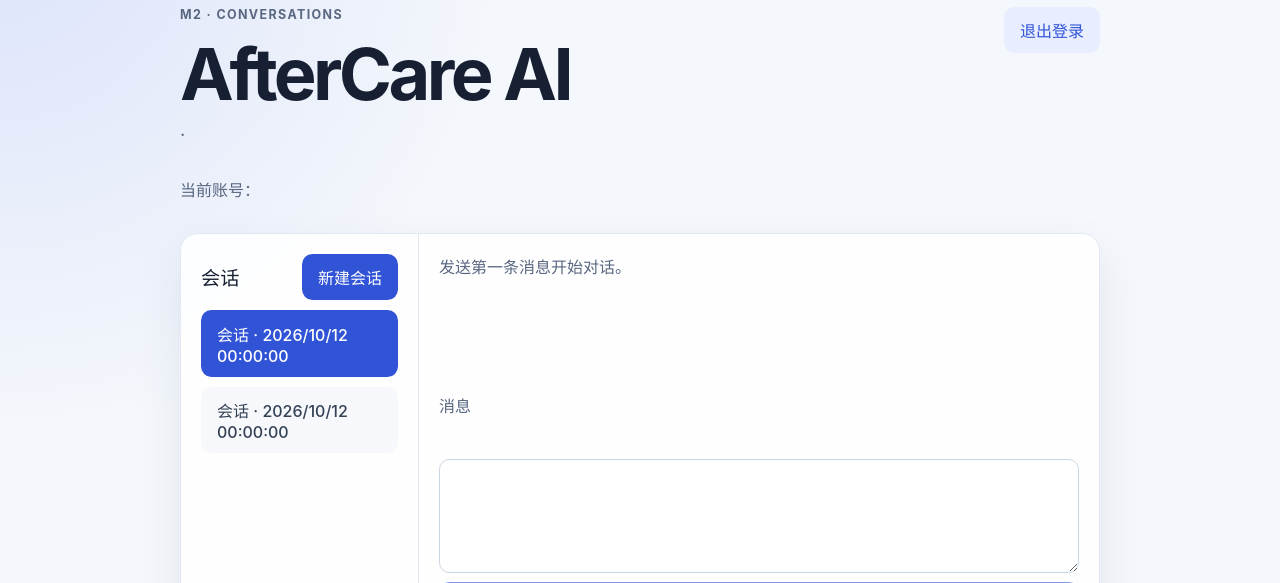
Test: reply lifecycle › clears sending state even if reloading persisted history fails
The image size is (1280, 583).
Type "Hello" into the text box labelled "消息" at (759, 516), box [439,460,1079,573]
(page scrolled)
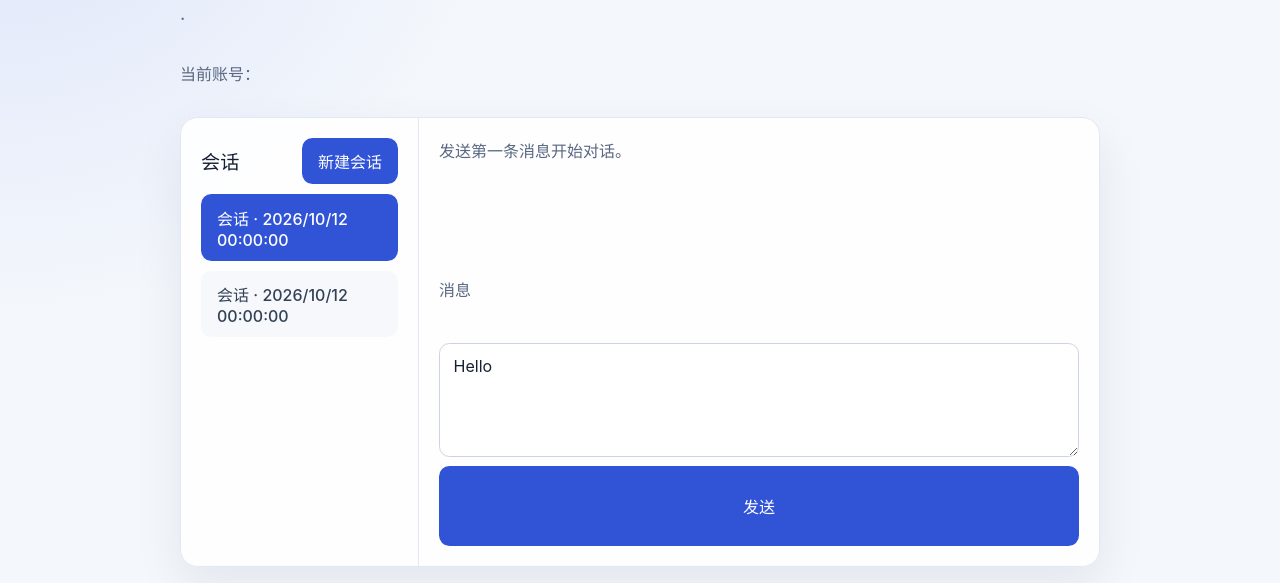
Submit the form, box [439,277,1079,546]
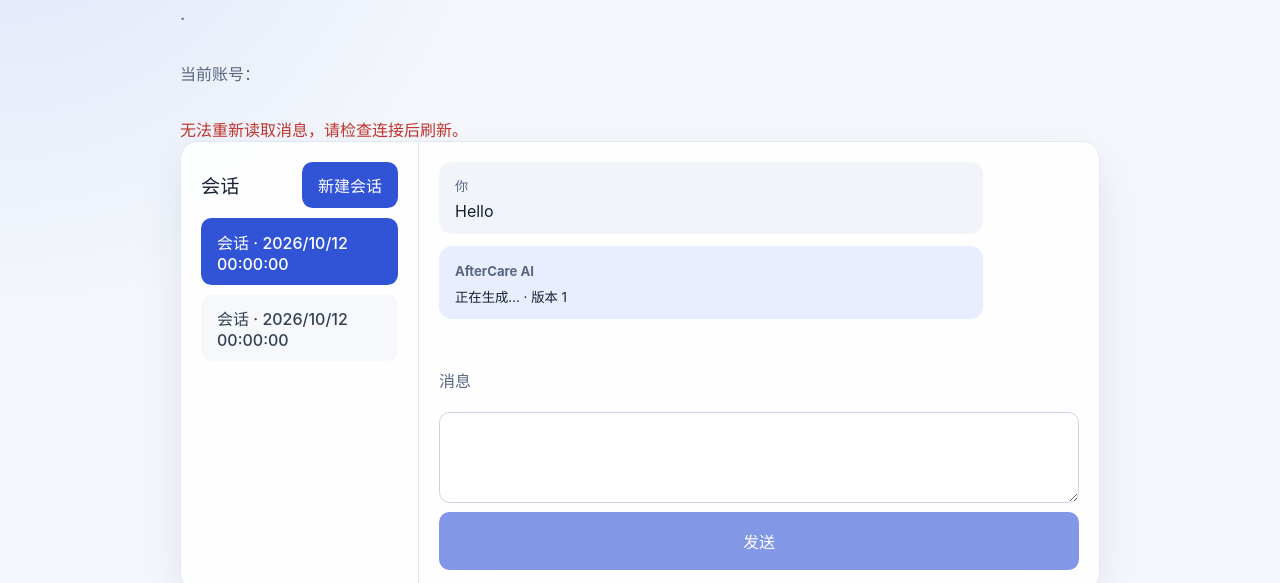
Expected: the text box labelled "消息" is enabled, [439,412,1079,503]
Now the text "无法重新读取消息" is shown, box [180,120,468,140]
